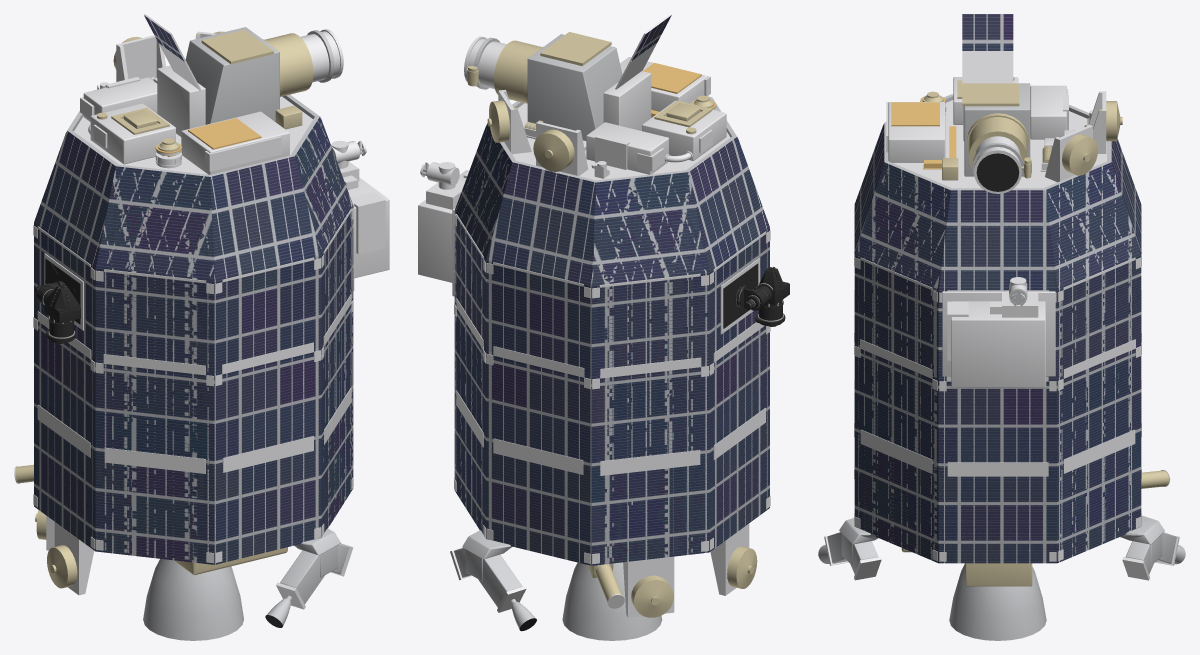
The model's file is ladee.glb.
3 views of the same model, side by side, from view 1: azimuth 30°, elevation 25°; view 2: azimuth 150°, elevation 25°; view 3: azimuth 270°, elevation 25° (orthographic). The views are drawn at different scales.
Visible parts, largest first — view 1: Fake; view 2: Fake; view 3: Fake.
Part boxes in pixels (<box>): Fake: <box>14,14,389,640</box>; Fake: <box>418,14,789,640</box>; Fake: <box>818,14,1185,640</box>.
Bounding box in the file's own units: 1.38 × 2.37 × 1.34.
Materials: 8 (1 with a texture image).
